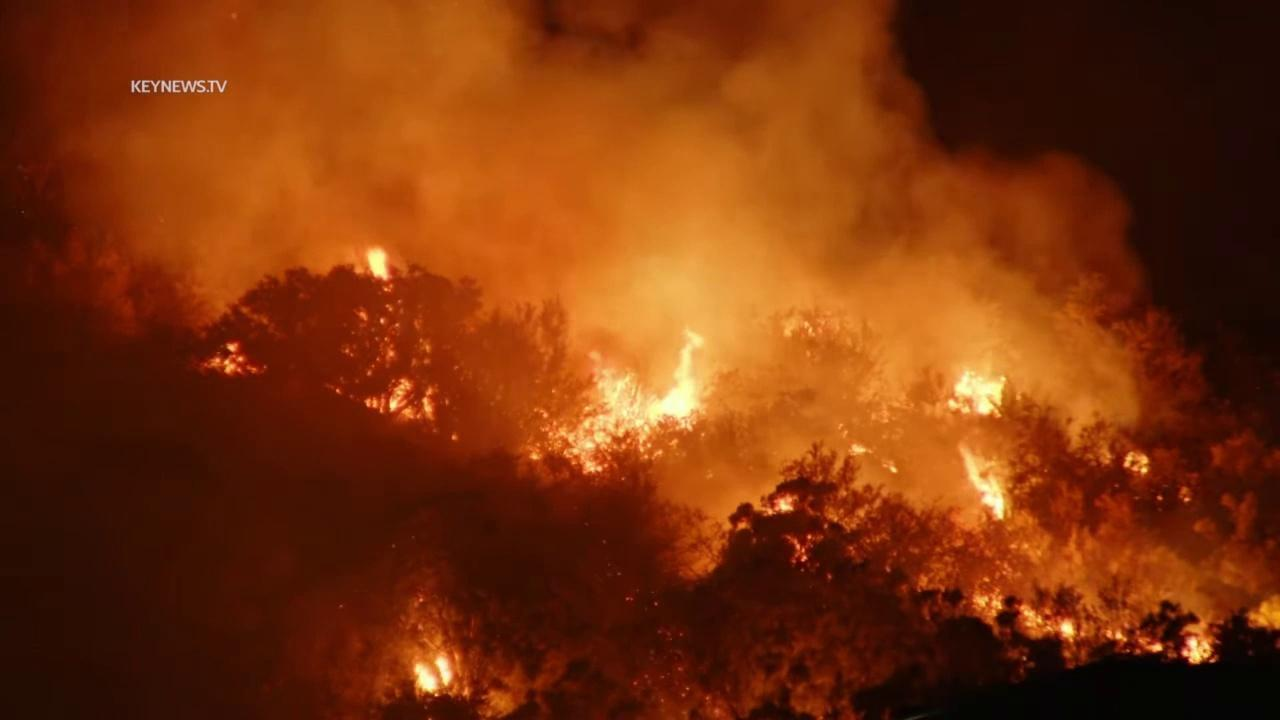fire: (527, 326, 706, 466), (331, 297, 443, 432), (969, 588, 1079, 639), (954, 432, 1012, 522), (1101, 624, 1220, 667), (945, 367, 1007, 418), (199, 340, 269, 380), (408, 652, 458, 700), (363, 242, 401, 294), (767, 491, 800, 514), (846, 441, 876, 456), (880, 459, 900, 476)
smoke: (0, 0, 1280, 720)
